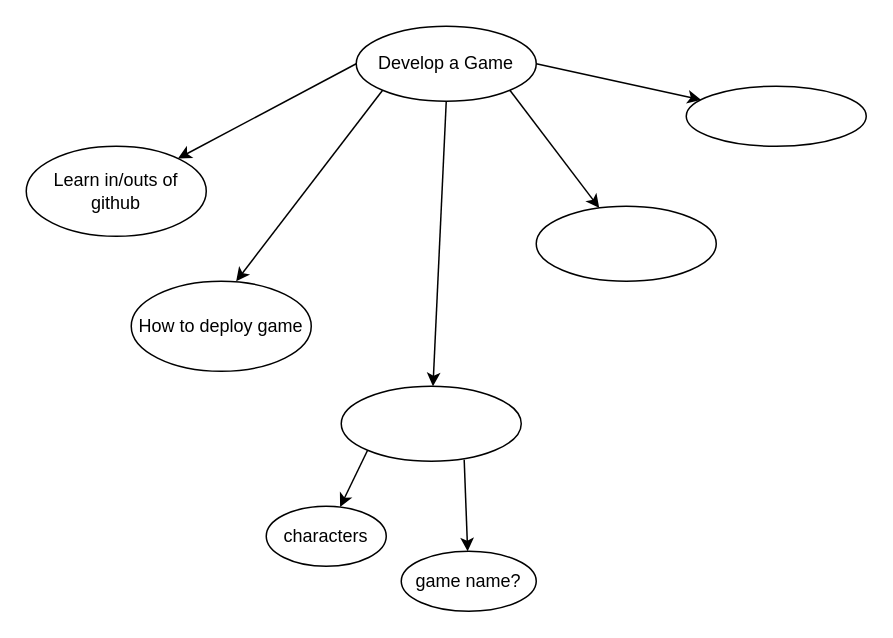
Some shapes in this 893 by 638 pixel diagram are drawn without their labels. The shapes that lost their labels are listed below. From the top down, each one's box as (x1, y1, x2, y2) in pixels, then its label:
(685, 85, 866, 146): Learn Kotlin
(535, 205, 716, 281): What tools do we need
(340, 385, 521, 461): What is the game
